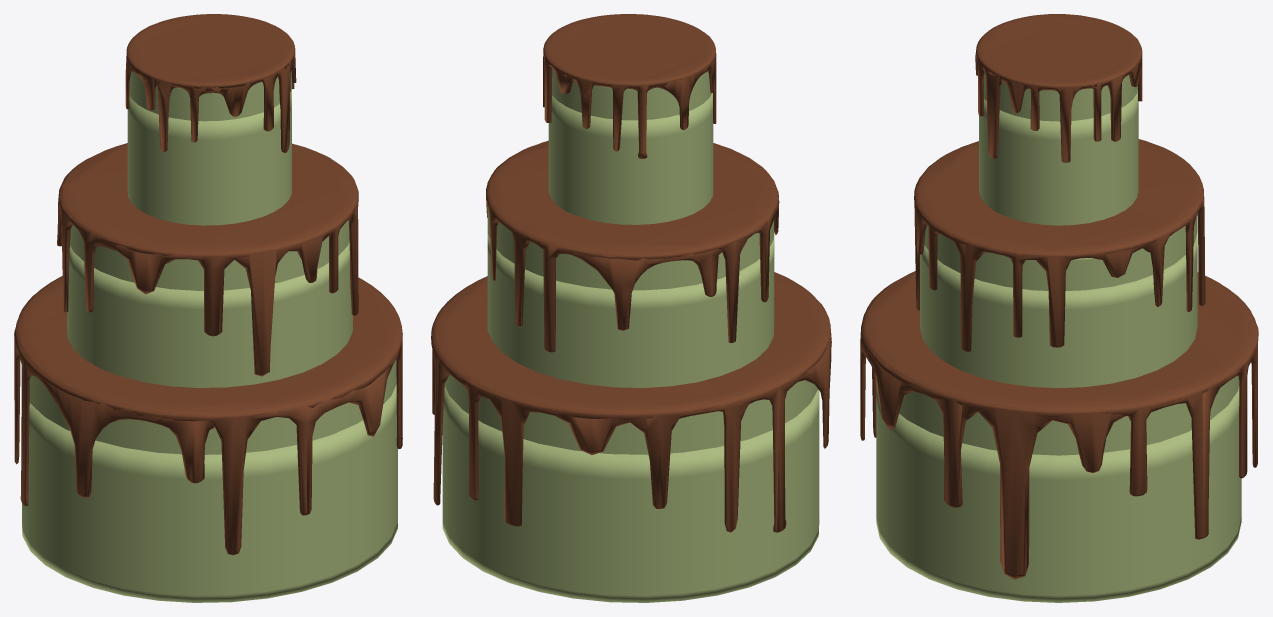
The model's file is 3-tier-pistage-ganache-none.glb.
3 views of the same model, side by side, from view 1: azimuth 30°, elevation 25°; view 2: azimuth 150°, elevation 25°; view 3: azimuth 270°, elevation 25° (orthographic).
Visible parts, largest first — view 1: Cylinder.022, tHE ICING.005, Cylinder.014, tHE ICING.002, Cylinder.021, tHE ICING.001; view 2: Cylinder.022, tHE ICING.005, Cylinder.014, tHE ICING.002, Cylinder.021, tHE ICING.001; view 3: Cylinder.022, tHE ICING.005, Cylinder.014, tHE ICING.002, Cylinder.021, tHE ICING.001.
Part boxes in pixels (x1,y1,x2,y2): Cylinder.022: [22, 359, 397, 602]; tHE ICING.005: [14, 276, 402, 555]; Cylinder.014: [67, 220, 352, 387]; tHE ICING.002: [57, 143, 358, 376]; Cylinder.021: [127, 70, 291, 225]; tHE ICING.001: [125, 14, 296, 152]; Cylinder.022: [442, 375, 819, 602]; tHE ICING.005: [431, 272, 831, 532]; Cylinder.014: [487, 205, 774, 387]; tHE ICING.002: [486, 140, 779, 352]; Cylinder.021: [548, 69, 713, 224]; tHE ICING.001: [543, 14, 716, 158]; Cylinder.022: [876, 376, 1241, 602]; tHE ICING.005: [860, 271, 1258, 579]; Cylinder.014: [920, 213, 1197, 387]; tHE ICING.002: [914, 139, 1205, 351]; Cylinder.021: [979, 72, 1138, 225]; tHE ICING.001: [975, 14, 1142, 162].
Size of the model in its own units: 4.33 by 5.81 by 4.43.
